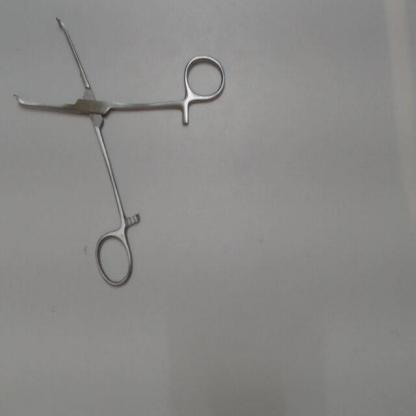Allis Tissue Forceps: (7, 4, 232, 300)
